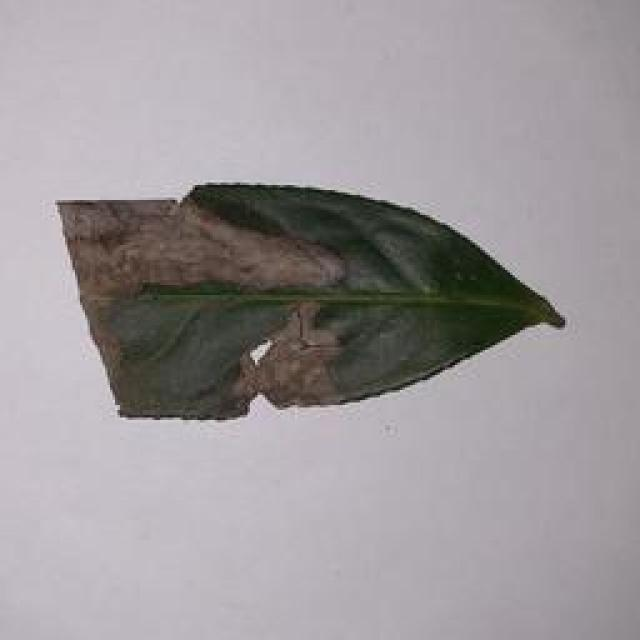Gray Blight: (40, 169, 584, 434)
